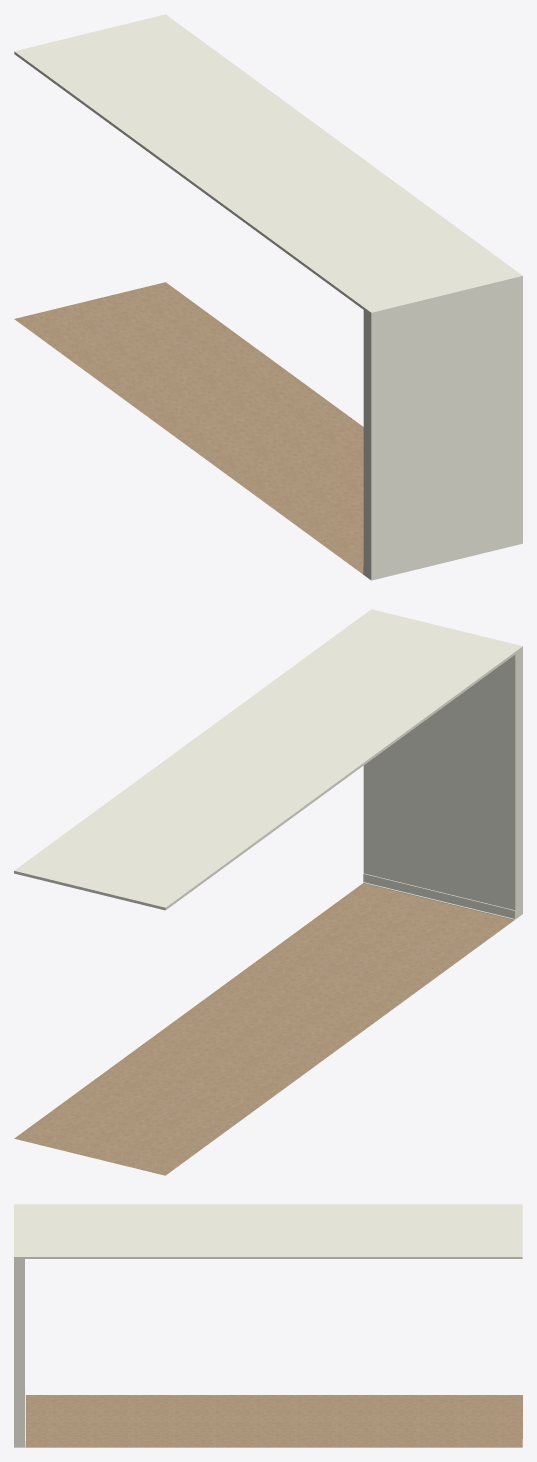
File: hallway.FBX
The picture shows the model from 3 angles, top to bottom: view 1: azimuth 30°, elevation 25°; view 2: azimuth 150°, elevation 25°; view 3: azimuth 270°, elevation 25°; orthographic projection. The views are drawn at different scales.
Visible parts, largest first — view 1: ceiling, wall, carpet; view 2: ceiling, carpet, wall, baseboard south; view 3: ceiling, carpet, wall.
Part boxes in pixels (left/top/right/bottom): ceiling: left=14, top=14, right=522, bottom=315; wall: left=363, top=278, right=522, bottom=580; carpet: left=14, top=282, right=363, bottom=573; ceiling: left=14, top=609, right=522, bottom=910; carpet: left=14, top=883, right=514, bottom=1175; wall: left=363, top=649, right=522, bottom=919; baseboard south: left=363, top=873, right=515, bottom=919; ceiling: left=14, top=1204, right=522, bottom=1258; carpet: left=26, top=1395, right=522, bottom=1447; wall: left=14, top=1259, right=24, bottom=1447.
Bounding box in the file's own units: 57.45 × 97 × 235.
2 materials, 1 textured.
